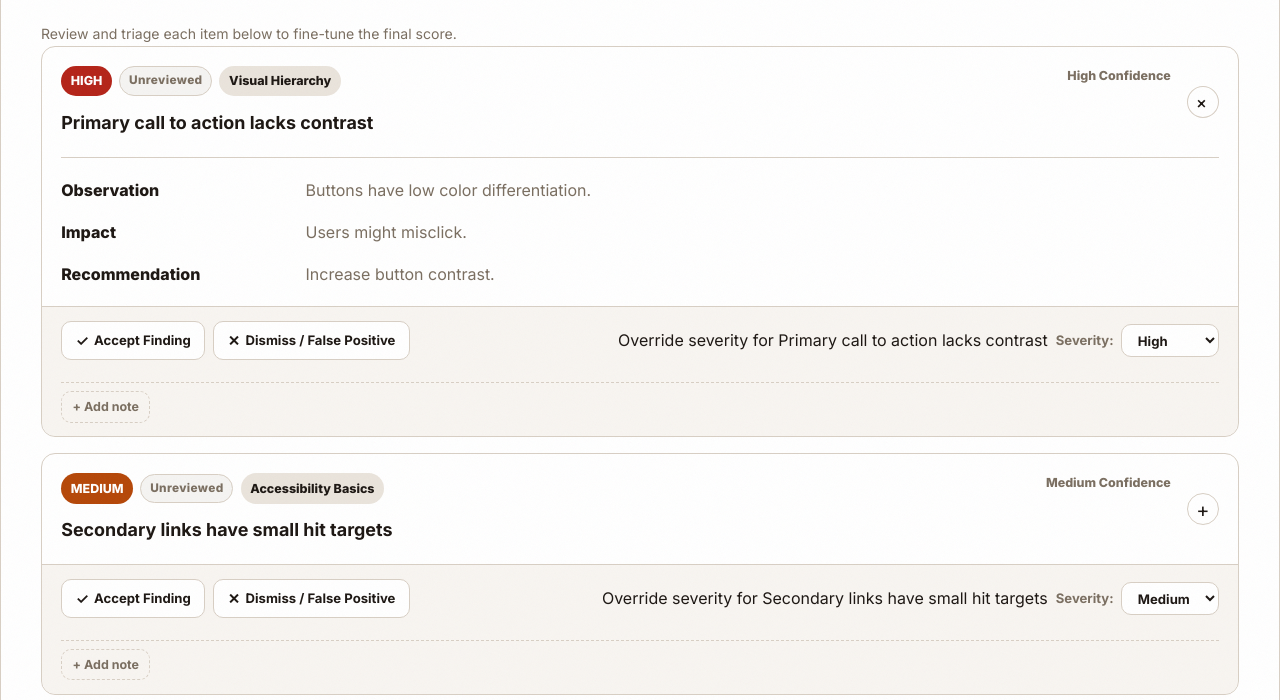
Scenario: AuditResults HITL Review Experience › updates effective penalty and registers an override when severity select changes
The image size is (1280, 700).
(page scrolled)
f-1 is high (12 penalty). Change to critical (18 penalty).
Select "Critical" in the dropdown labelled "Override severity for Primary call to action lacks contrast" at (1170, 341), box [1121,324,1219,357]
(page scrolled)
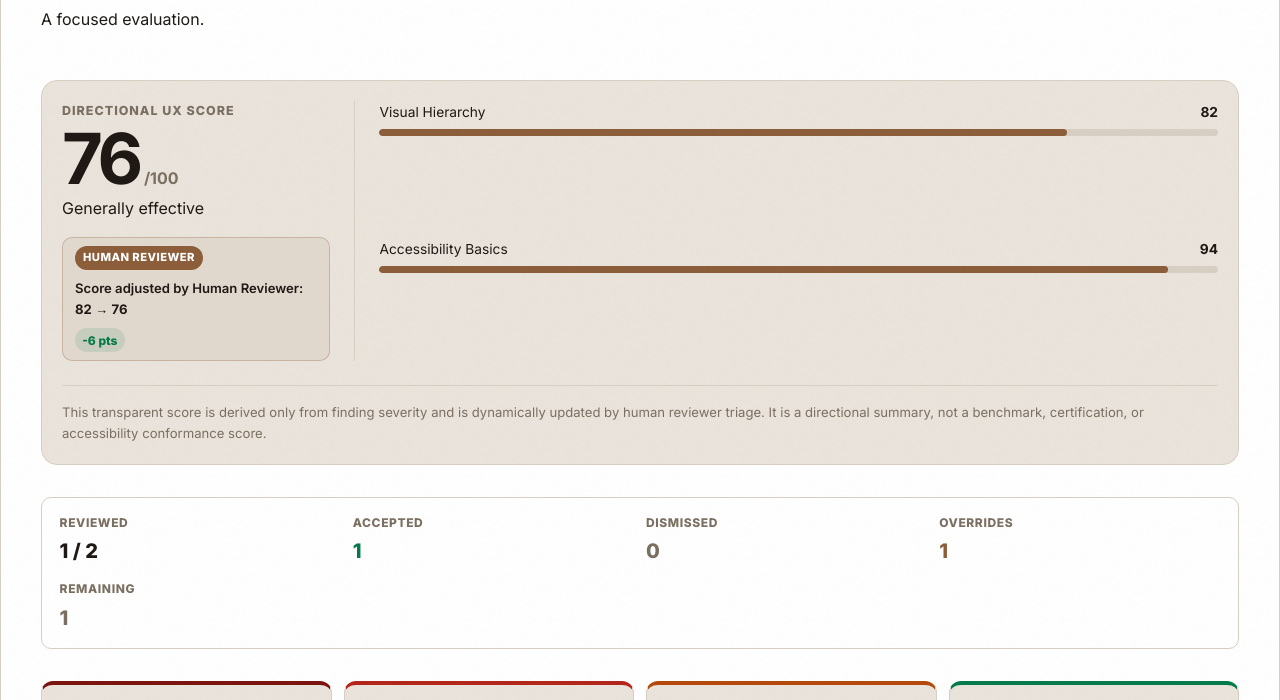
Result: the text "76" next to "/100" is shown at [62,116,139,201]
Result: the text "-6 pts" is shown at [75,328,125,352]
